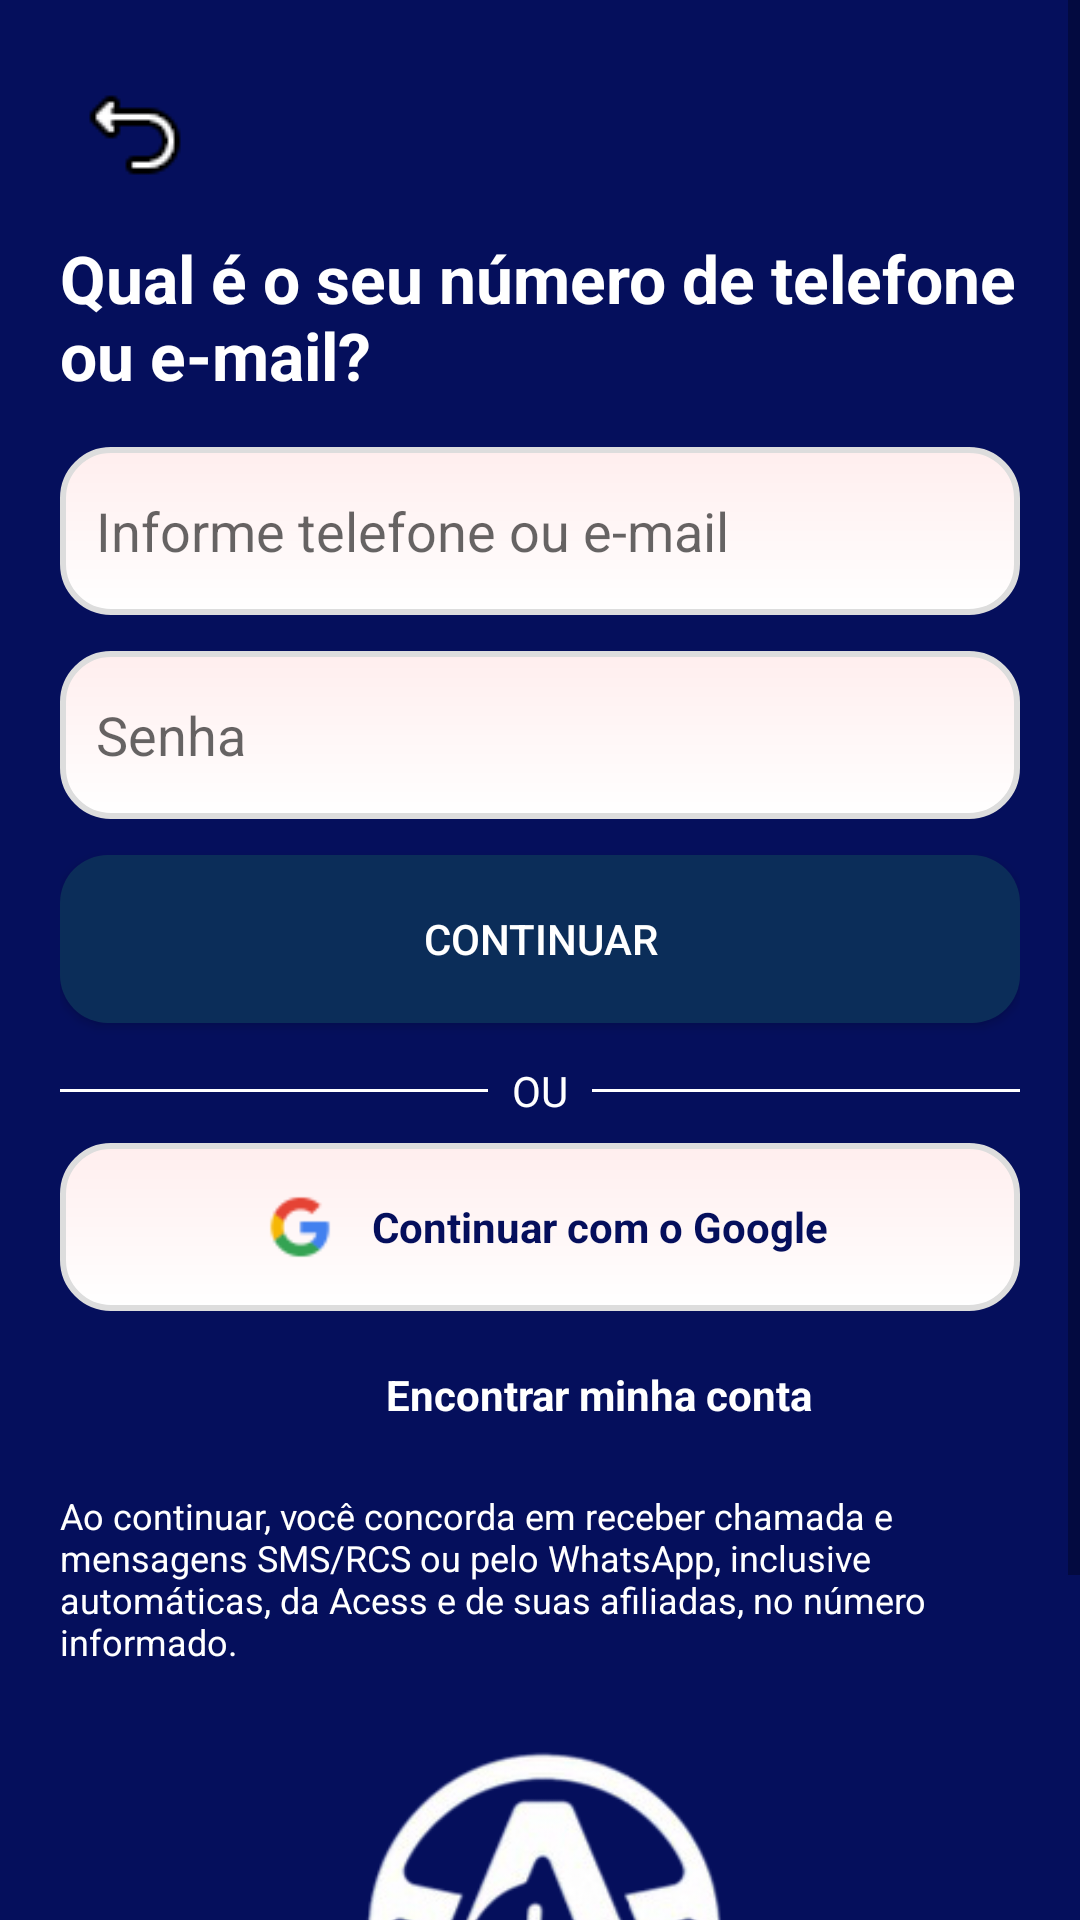

Named icons in this screenshot (1080×1920) and their bounding boxes, (x1, y1, x2, y2):
return: (89, 95, 181, 175)
